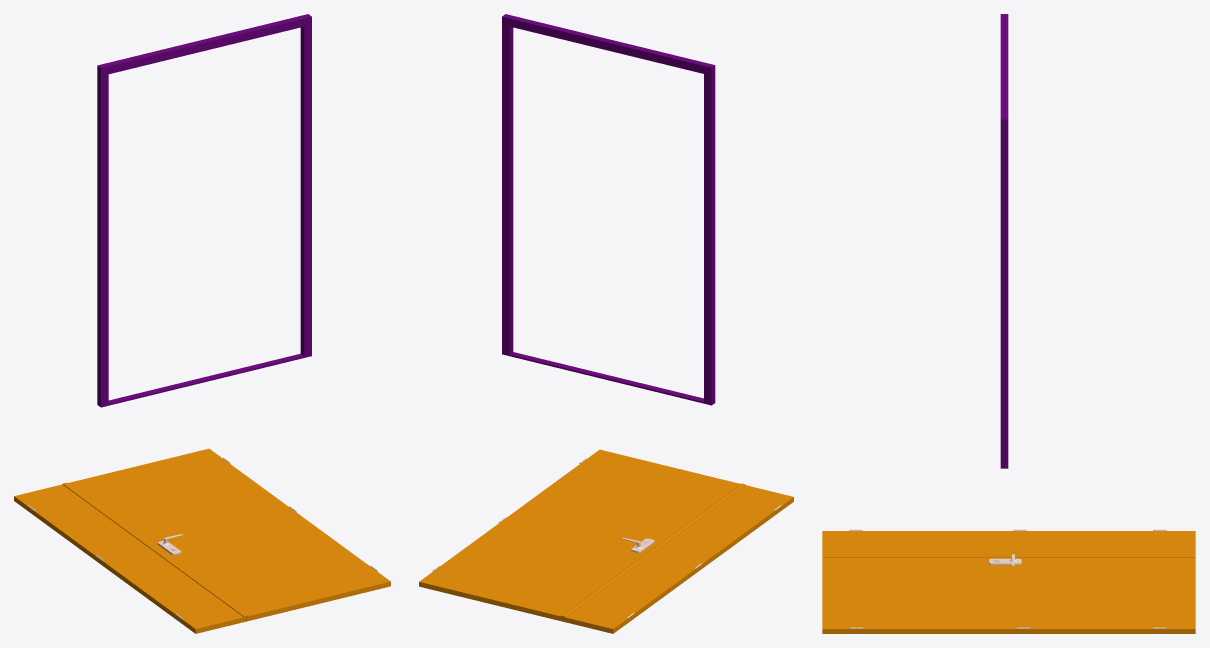
The model's file is PorteBsolo.fbx.
The picture shows the model from 3 angles, left to right: view 1: azimuth 30°, elevation 25°; view 2: azimuth 150°, elevation 25°; view 3: azimuth 270°, elevation 25°; orthographic projection. The views are drawn at different scales.
Parts seen in each view (by area): view 1: SM_Door_R_B, SM_Door_Frame_B, SM_Door_L_B; view 2: SM_Door_R_B, SM_Door_Frame_B, SM_Door_L_B; view 3: SM_Door_R_B, SM_Door_L_B, SM_Door_Frame_B.
Part boxes in pixels (left/top/right/bottom): SM_Door_R_B: left=62, top=448, right=390, bottom=621; SM_Door_Frame_B: left=97, top=14, right=311, bottom=407; SM_Door_L_B: left=14, top=484, right=246, bottom=633; SM_Door_R_B: left=419, top=449, right=745, bottom=621; SM_Door_Frame_B: left=502, top=14, right=715, bottom=405; SM_Door_L_B: left=562, top=485, right=793, bottom=633; SM_Door_R_B: left=822, top=554, right=1195, bottom=633; SM_Door_L_B: left=822, top=529, right=1195, bottom=554; SM_Door_Frame_B: left=1000, top=14, right=1008, bottom=468.
Size of the model in its own units: 136 by 316 by 204.
